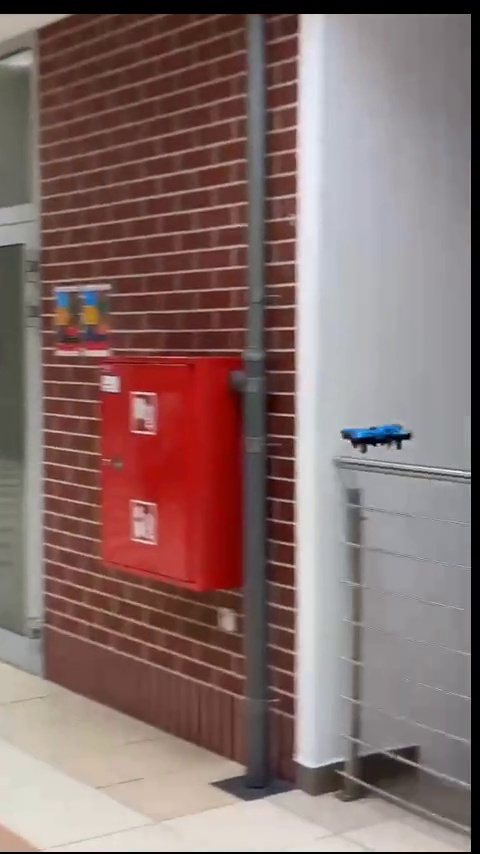drone: (342, 425, 412, 458)
